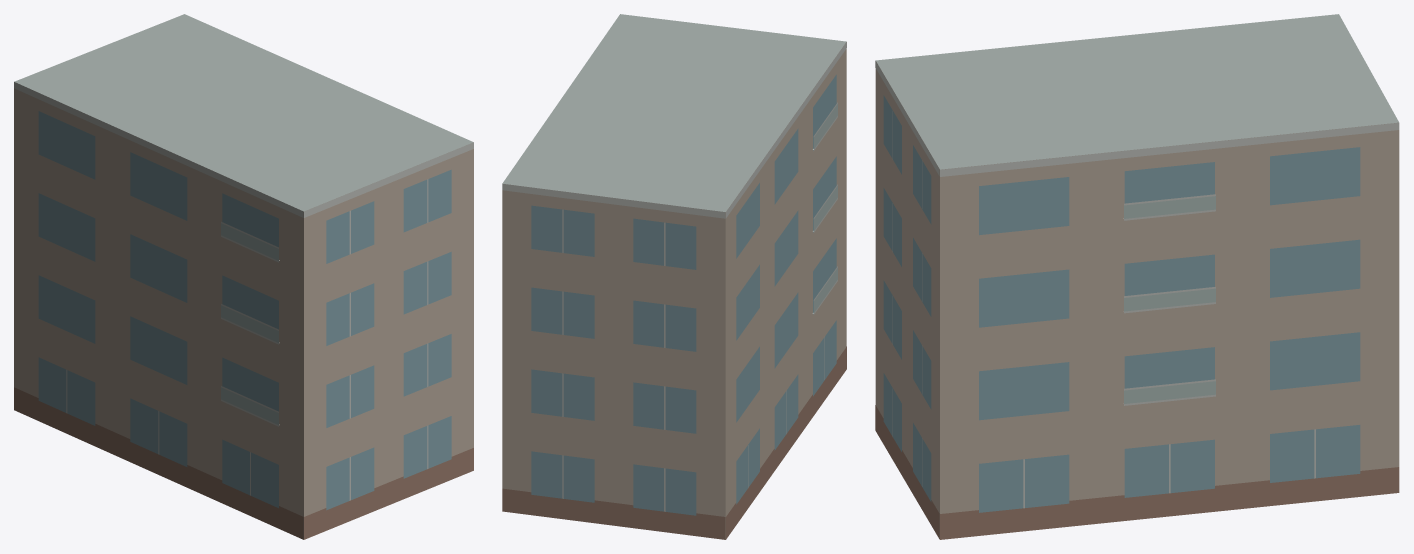
The model's file is survey-upis-32808313.glb.
3 views of the same model, side by side, from view 1: azimuth 30°, elevation 25°; view 2: azimuth 150°, elevation 25°; view 3: azimuth 270°, elevation 25° (orthographic). The views are drawn at different scales.
Parts seen in each view (by area): view 1: survey-upis-32808313.tmp; view 2: survey-upis-32808313.tmp; view 3: survey-upis-32808313.tmp.
Part boxes in pixels (x1,y1,x2,y2): survey-upis-32808313.tmp: (14,14,473,539); survey-upis-32808313.tmp: (502,14,846,539); survey-upis-32808313.tmp: (875,14,1399,539).
Size of the model in its own units: 11.01 by 12.2 by 15.65.
